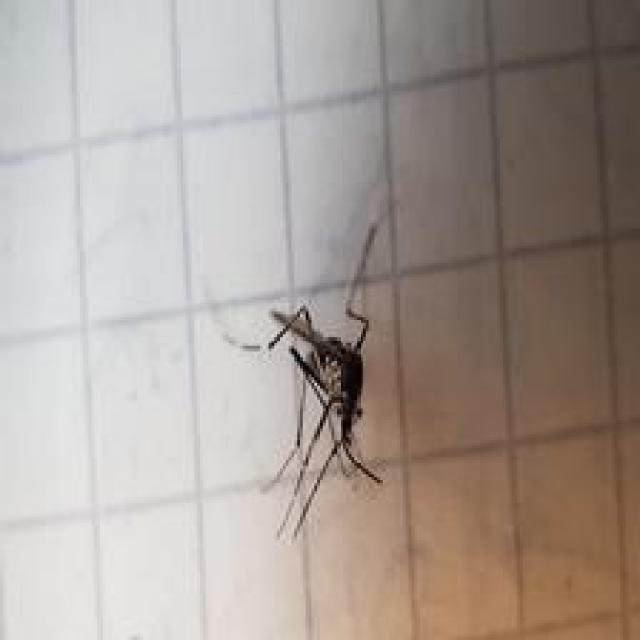Aedes albopictus: (256, 223, 387, 543)
